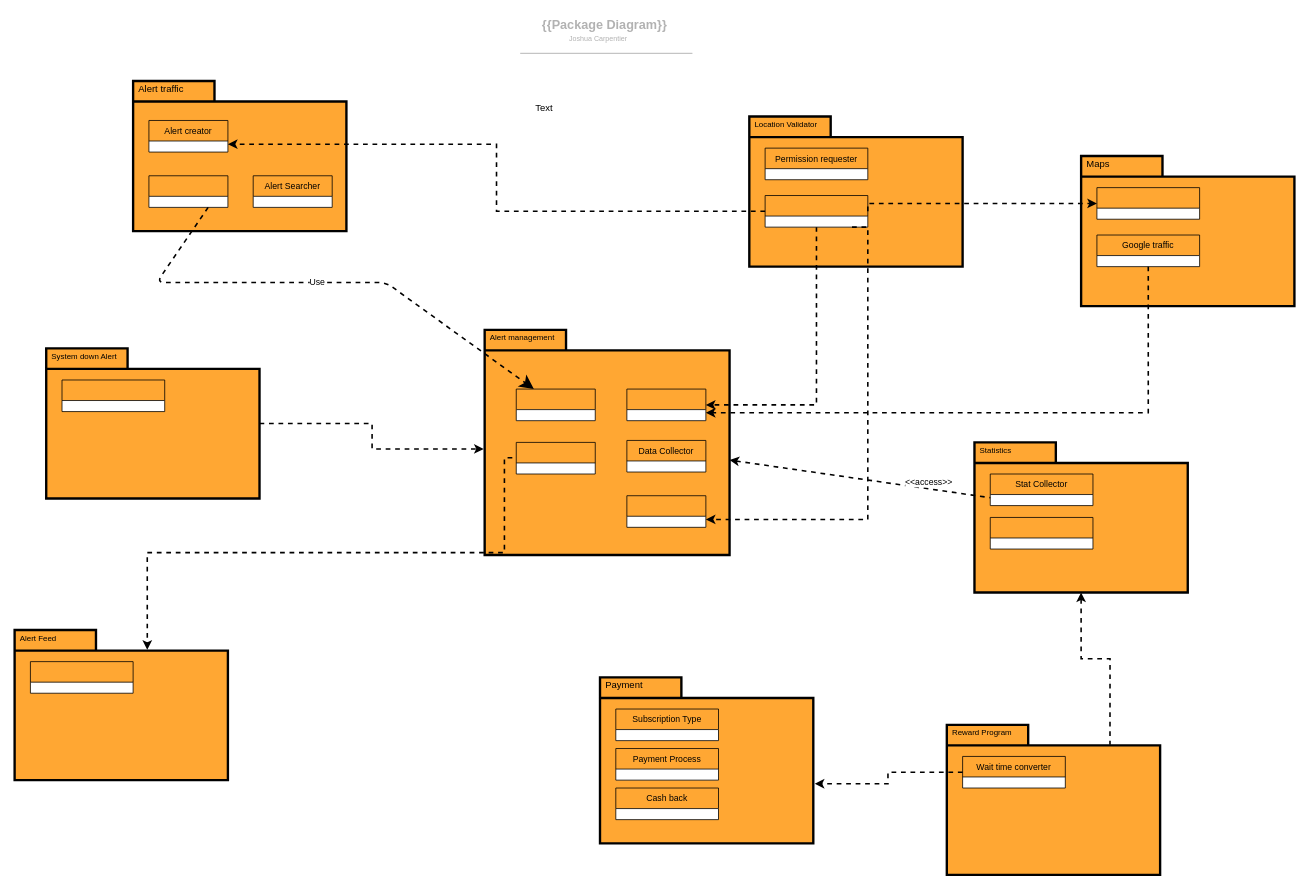
Image size: 1309x890. Some labels were removed from this diagram. Each missing label, with the centre of its shape:
"Alert Reciver" goes at pixel 555 404.
"Alert router" goes at pixel 188 191.
"Alert sender" goes at pixel 555 458.
"Alert Sorter" goes at pixel 81 677.
"Claimed Parking" goes at pixel 666 511.
"Google maps" goes at pixel 1148 203.
"Location Checker" goes at pixel 816 211.
"Radius detector" goes at pixel 666 404.
"Stats" goes at pixel 1041 533.
"System checker" goes at pixel 113 395.
